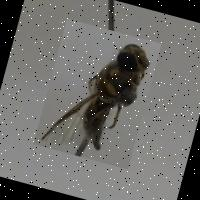Oriental-fruit-fly: (32, 18, 160, 169)
